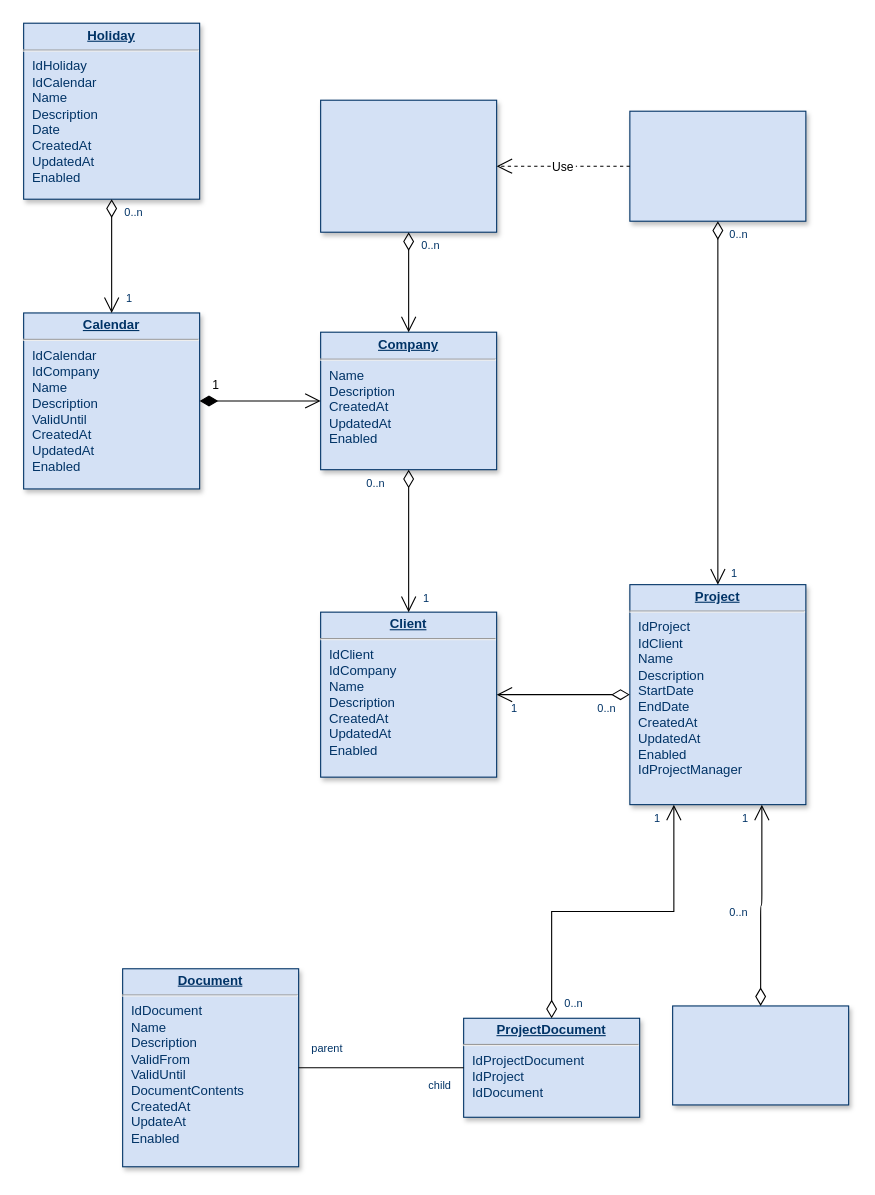
Some shapes in this 875 by 1195 pixel diagram are drawn without their labels. Each missing label, with the centre of its shape:
"ProjectCostCenter IdProjectCostCenter IdProject IdCostCenter" goes at (761,1056).
"Role IdCompany Name Description CreatedAt UpdatedAt Enabled" goes at (409,167).
"UserProjectRole IdUserProjectRole IdRole IdProject IdUser" goes at (718,167).
